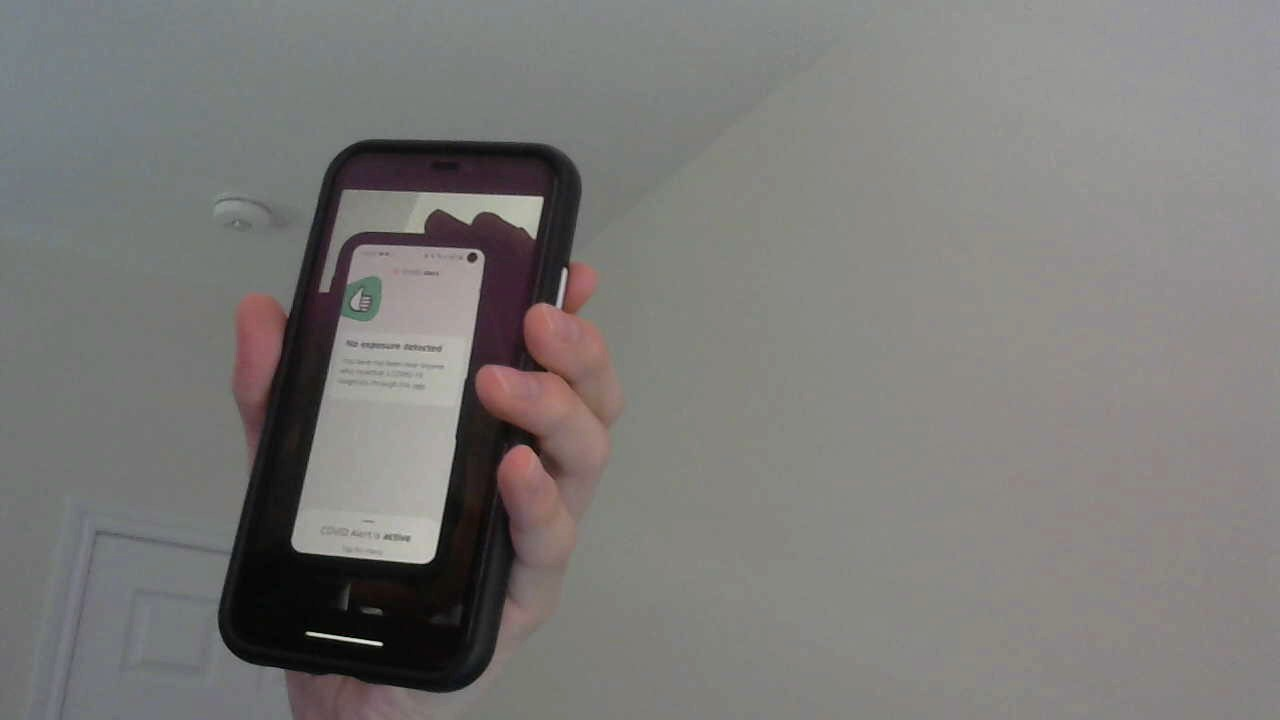Safe: (331, 272, 465, 355)
